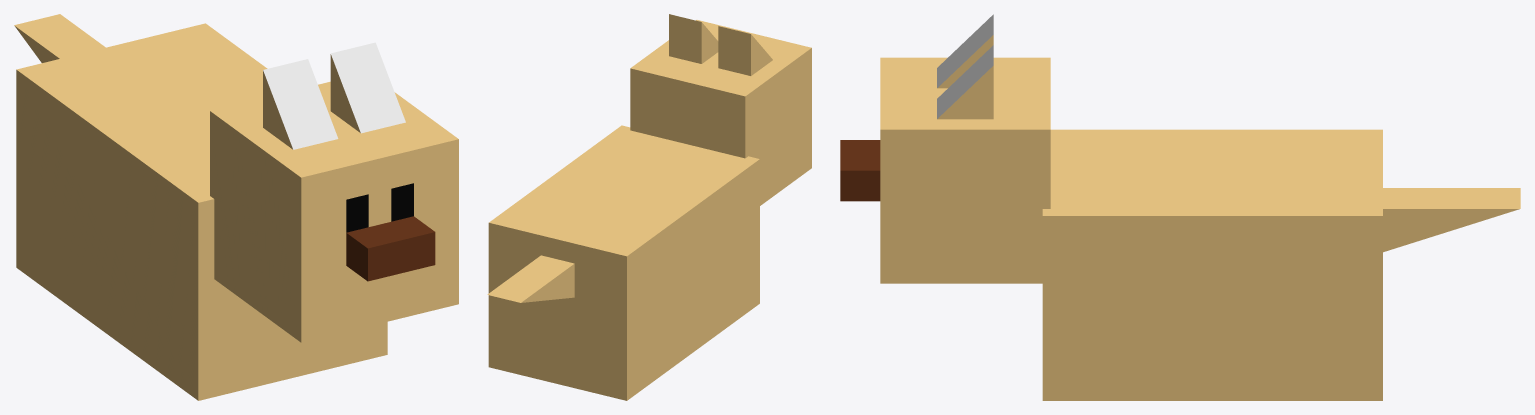
File: Animal.fbx
3 views of the same model, side by side, from view 1: azimuth 30°, elevation 25°; view 2: azimuth 150°, elevation 25°; view 3: azimuth 270°, elevation 25° (orthographic). The views are drawn at different scales.
Parts seen in each view (by area): view 1: 立方体, 立方体.001, 立方体.002; view 2: 立方体, 立方体.001, 立方体.002; view 3: 立方体, 立方体.001, 立方体.002.
Boxes of the visible parts, x1,y1,x2,y2 form: 立方体: (16, 23, 387, 400); 立方体.001: (210, 42, 458, 342); 立方体.002: (14, 14, 105, 62); 立方体: (488, 125, 759, 400); 立方体.001: (630, 14, 811, 205); 立方体.002: (487, 255, 574, 302); 立方体: (1042, 129, 1382, 400); 立方体.001: (840, 14, 1050, 283); 立方体.002: (1383, 188, 1520, 252).
Size of the model in its own units: 120 by 206 by 400.
